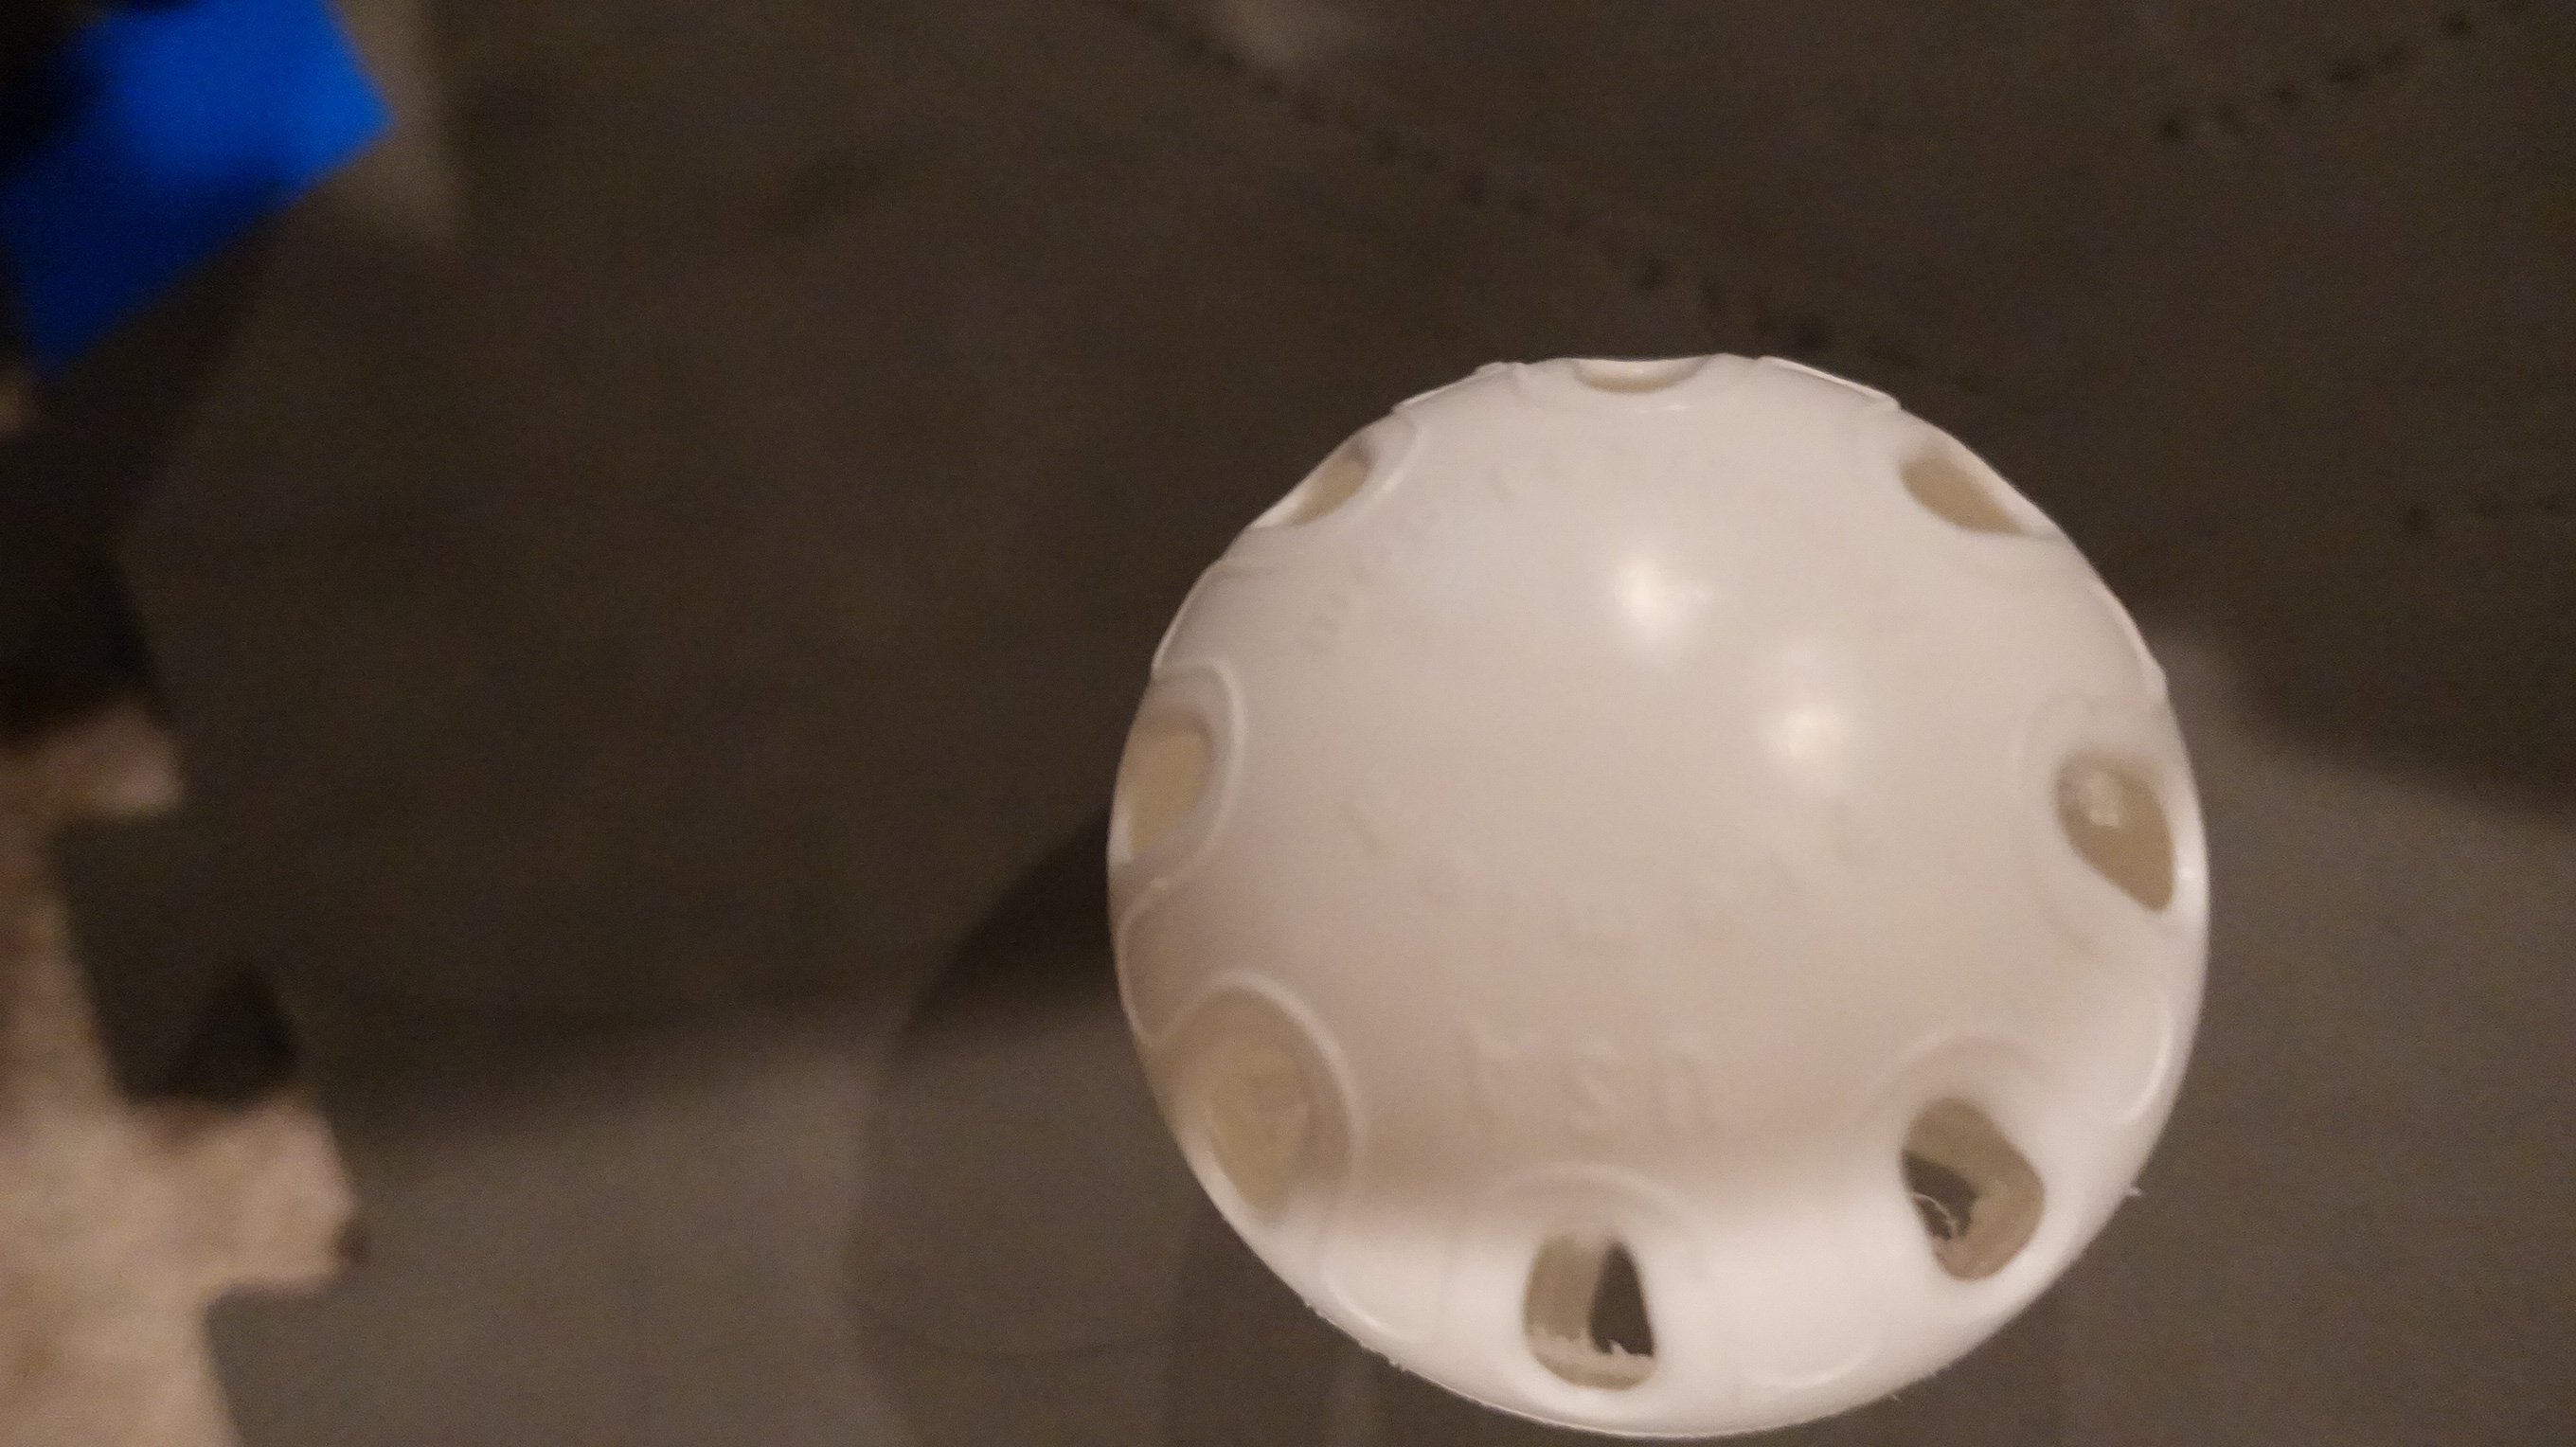silver: (1100, 313, 2217, 1442)
